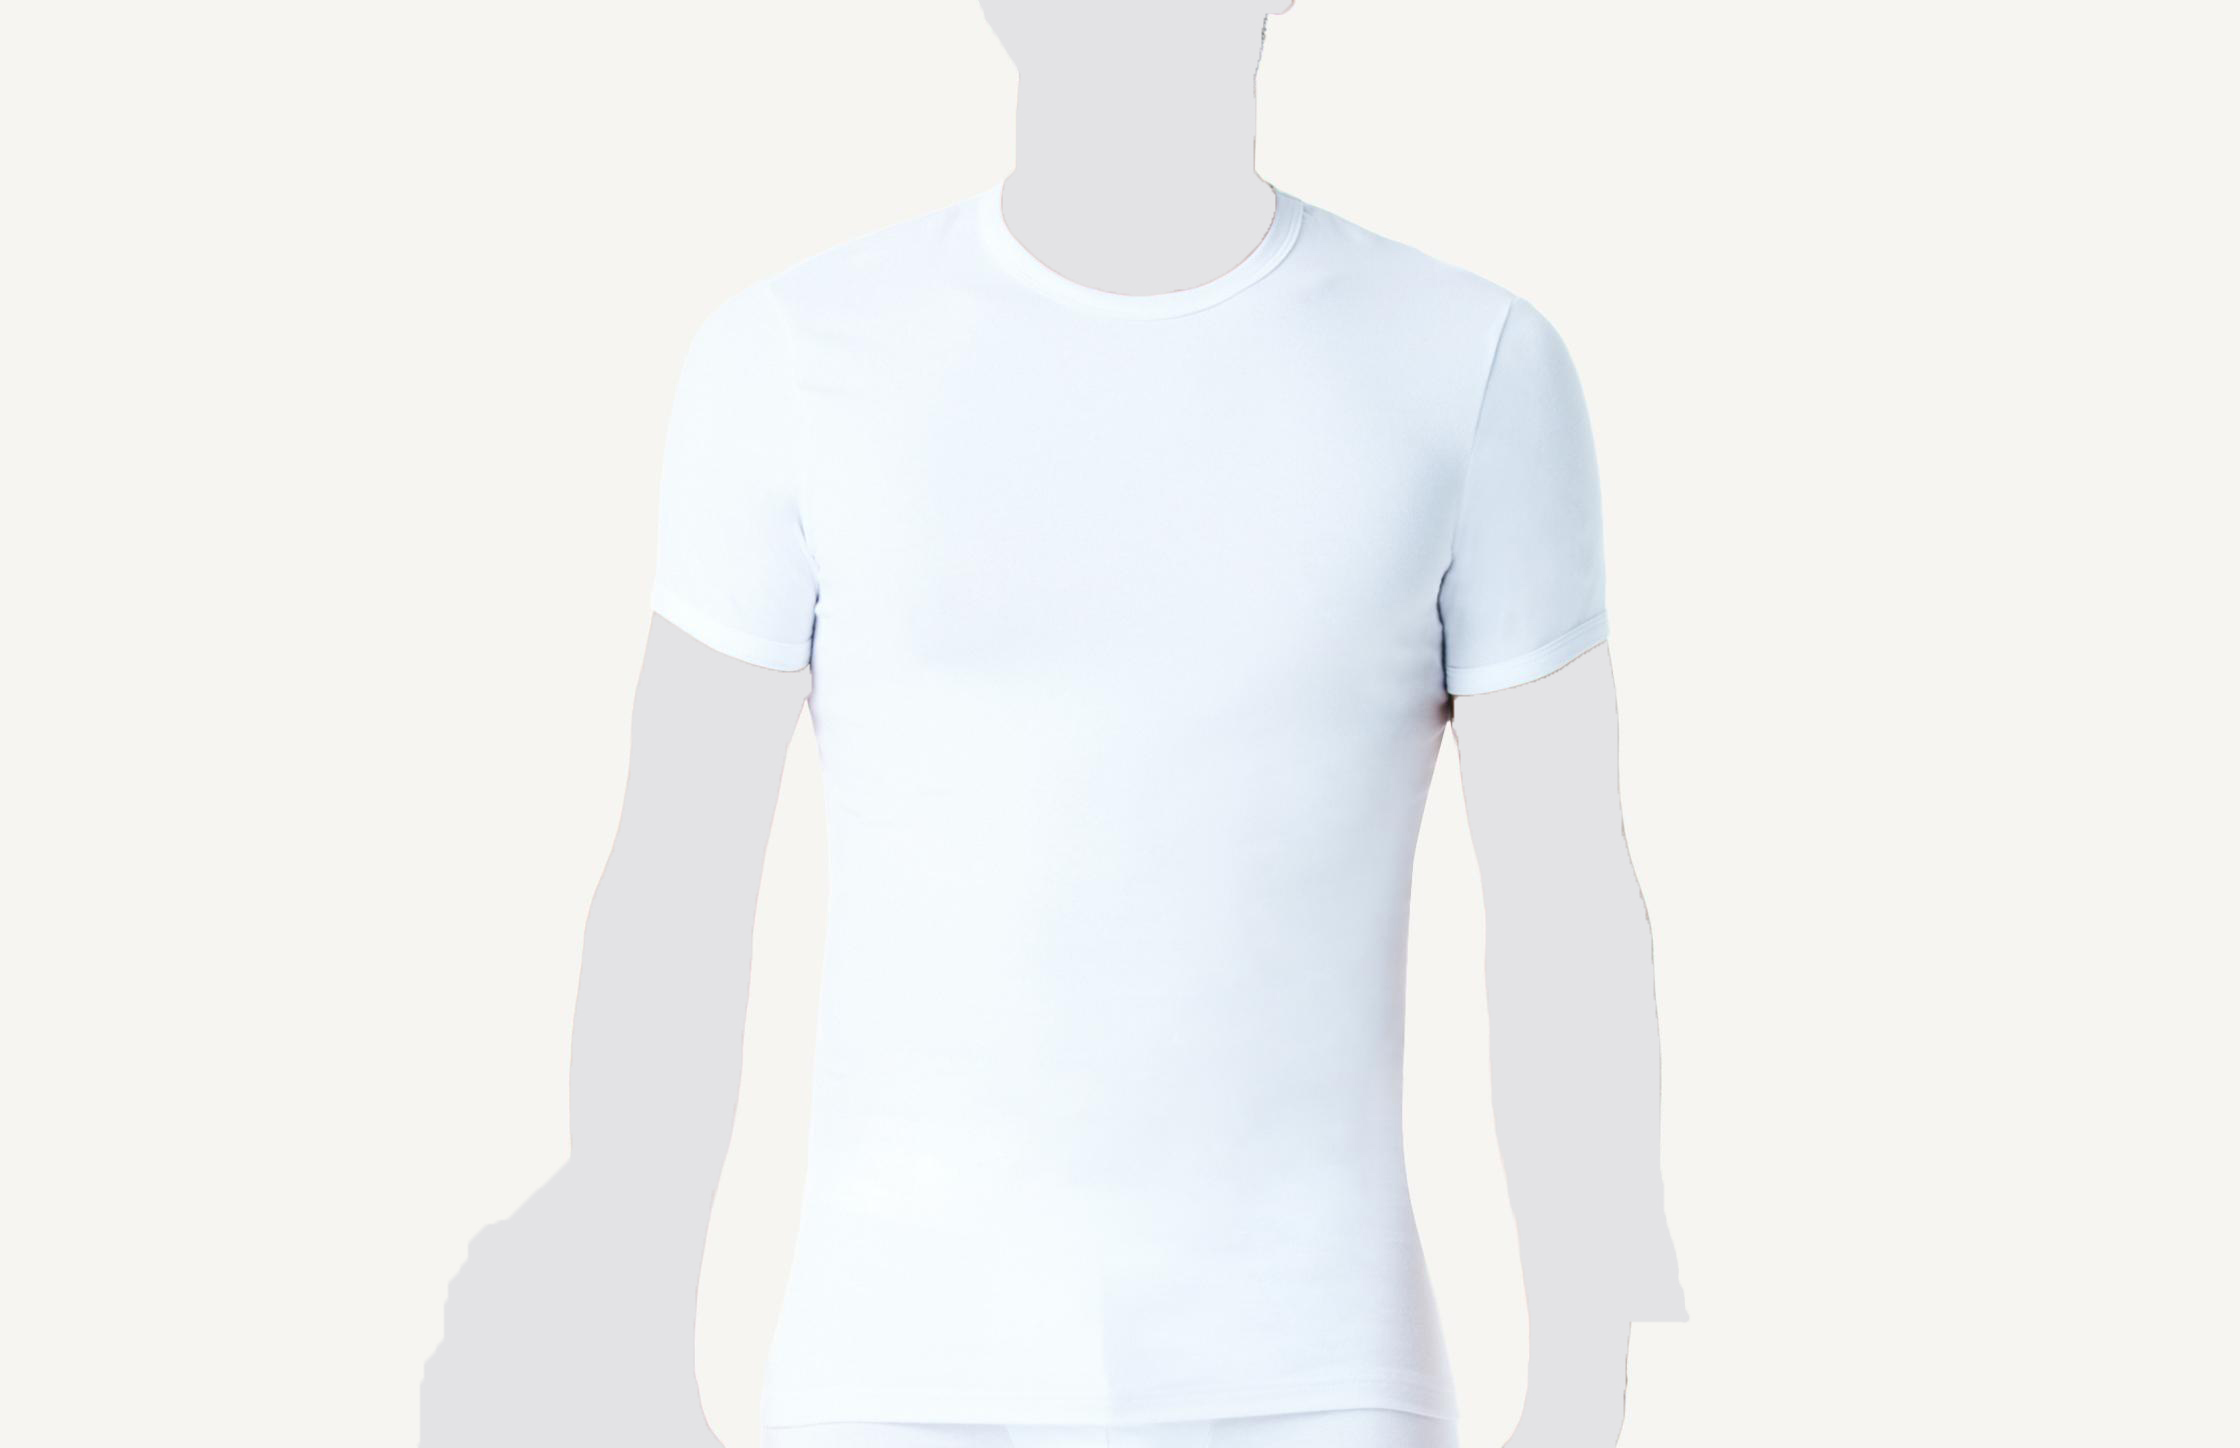teeshirt: (630, 171, 1618, 1448)
